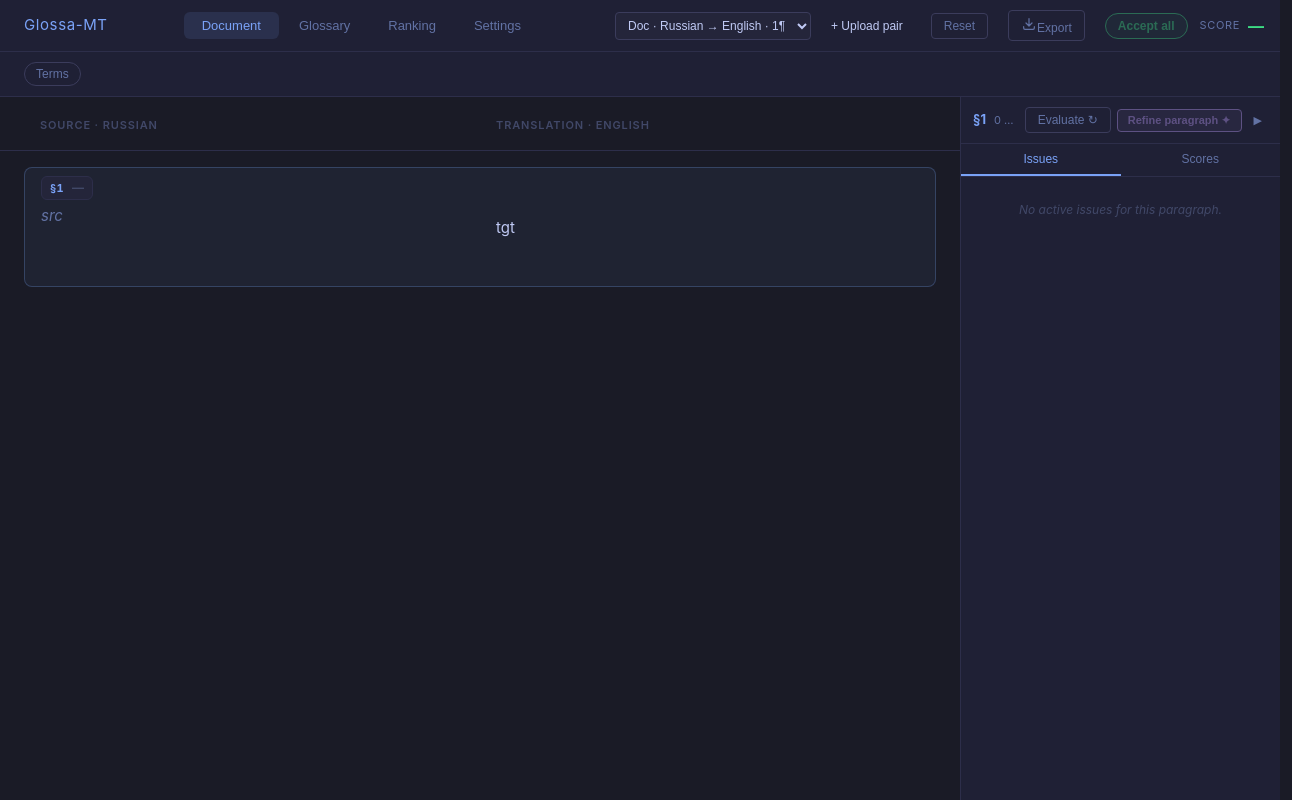
Test: Export control (audit-fix HIGH: dropdown items were unclickable) › closes the menu on an outside (backdrop) click — click-outside-to-close still works
Click the button with test id "export-btn": (1046, 26) [1008,10,1085,41]
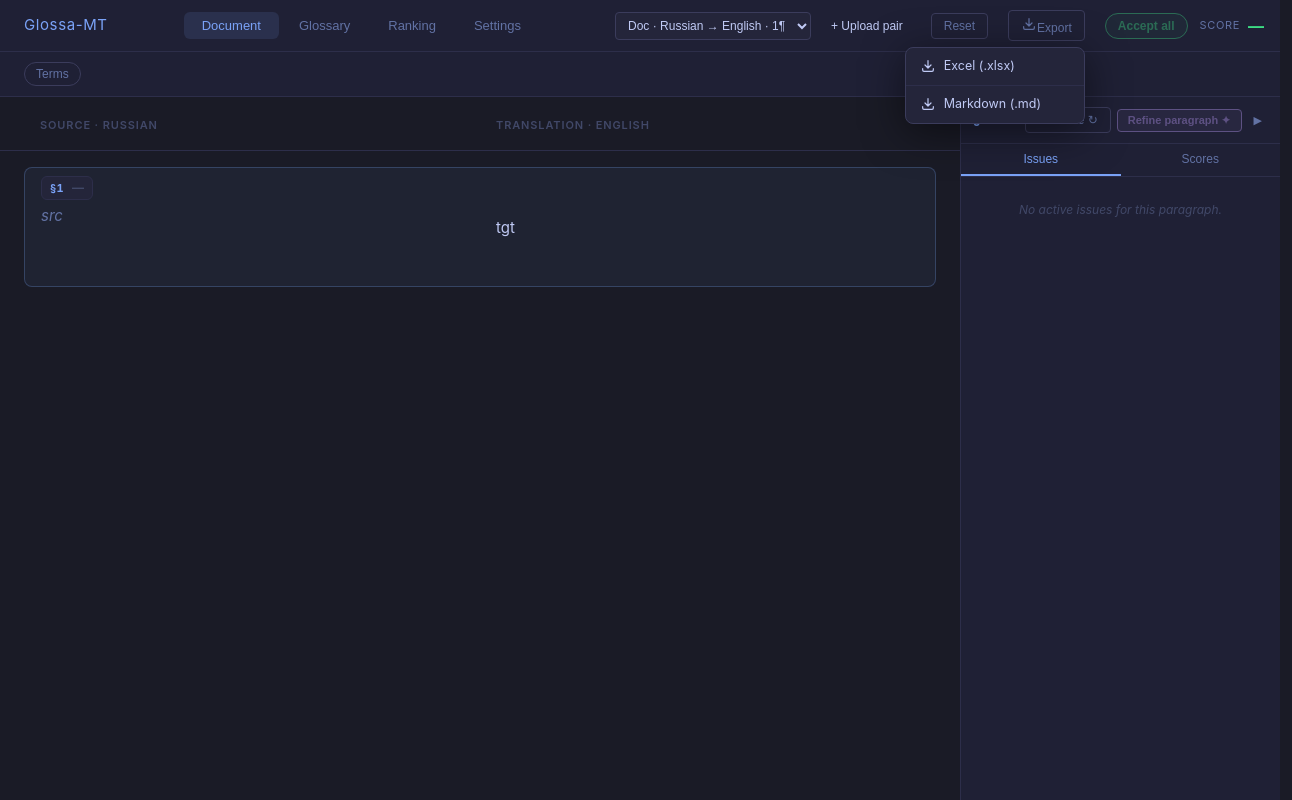
expect the element with test id "export-menu" is shown: met, box [905,47,1085,124]
Click the element with class "va-popover-backdrop": (640, 400) [0,0,1280,799]
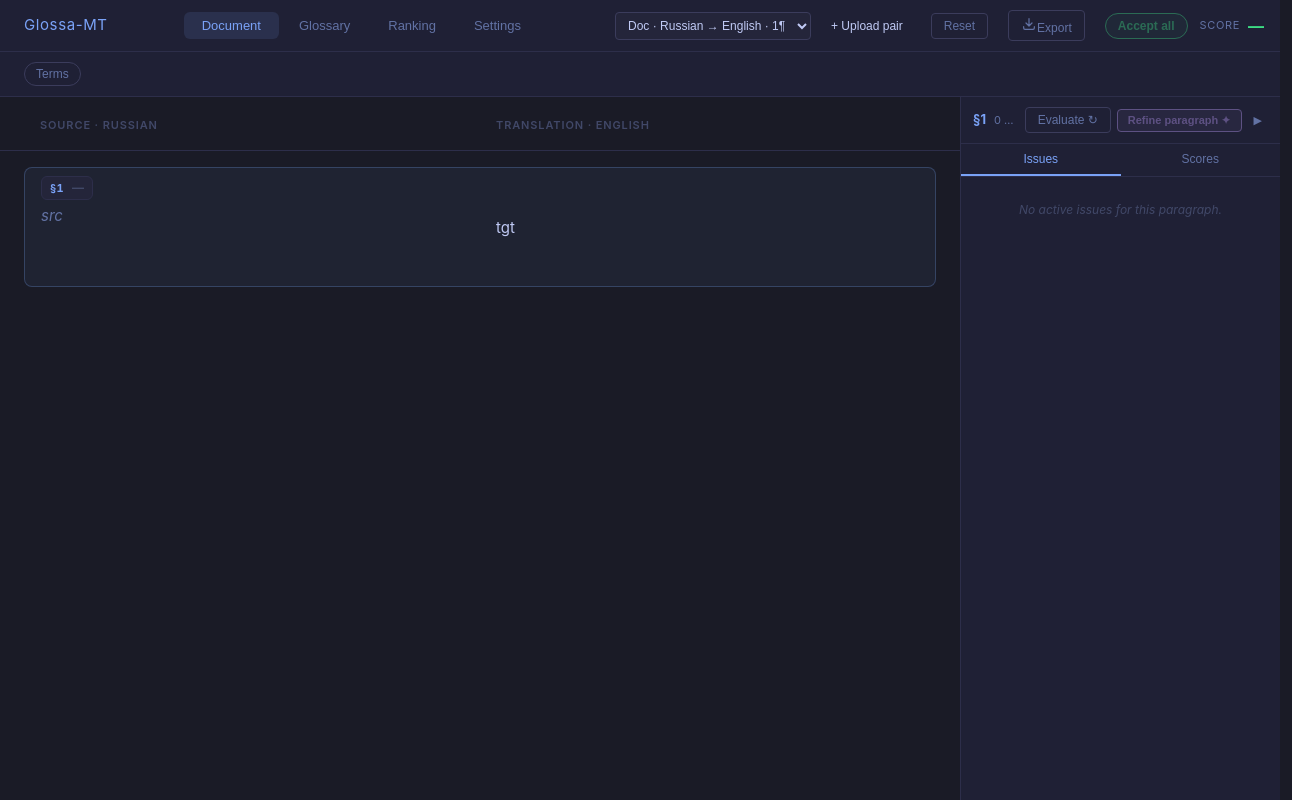
expect the element with test id "export-menu" is gone: met
